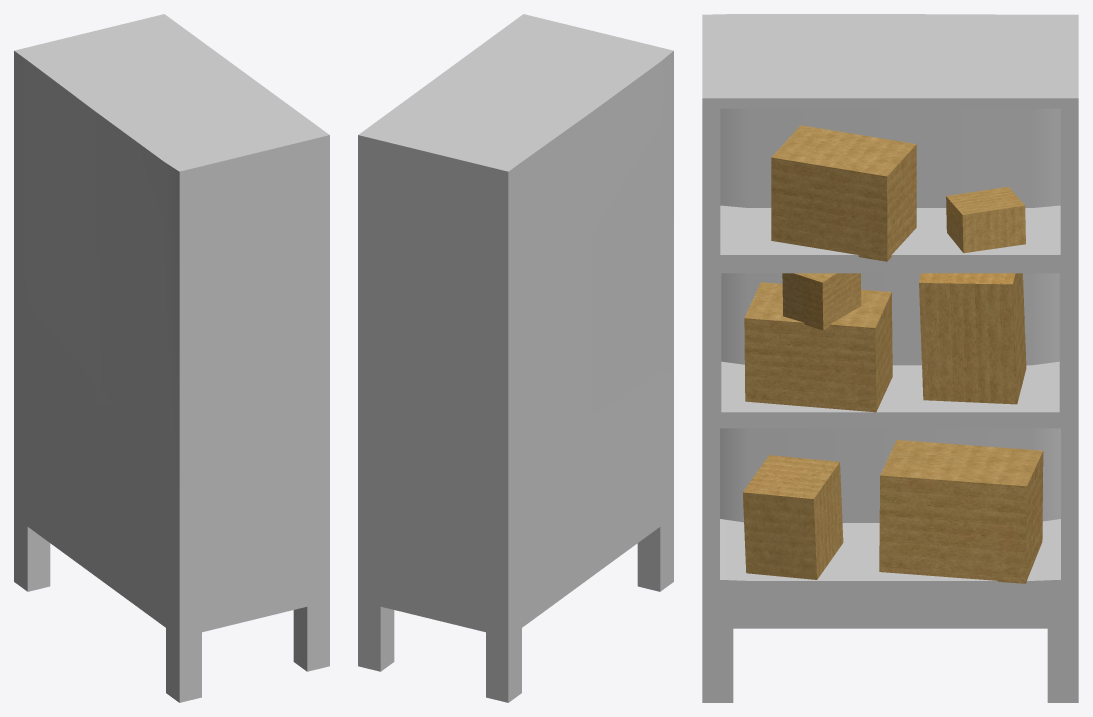
File: scaffale.fbx
3 views of the same model, side by side, from view 1: azimuth 30°, elevation 25°; view 2: azimuth 150°, elevation 25°; view 3: azimuth 270°, elevation 25° (orthographic). The views are drawn at different scales.
Parts seen in each view (by area): view 1: polySurface5; view 2: polySurface5; view 3: polySurface5.
Part boxes in pixels (x1=…): polySurface5: x1=14, y1=14, x2=329, y2=702; polySurface5: x1=358, y1=14, x2=673, y2=702; polySurface5: x1=702, y1=14, x2=1078, y2=702.
Size of the model in its own units: 2.24 by 7.09 by 4.
